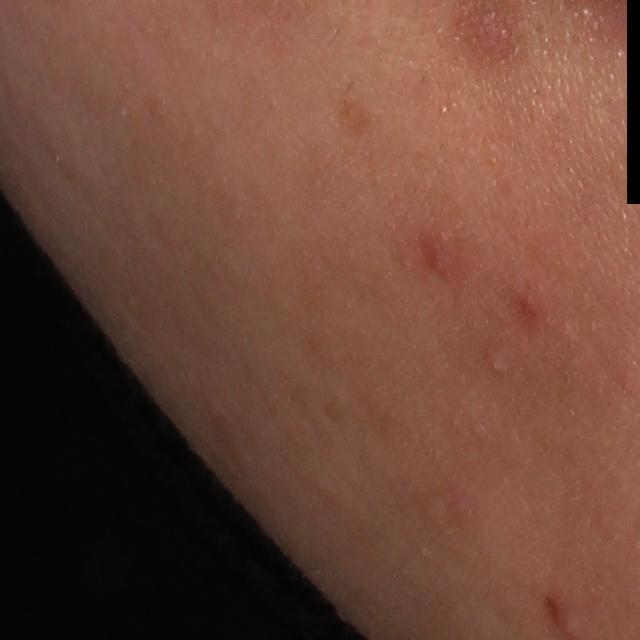comedo: (481, 349, 514, 380)
papule: (425, 245, 453, 282)
